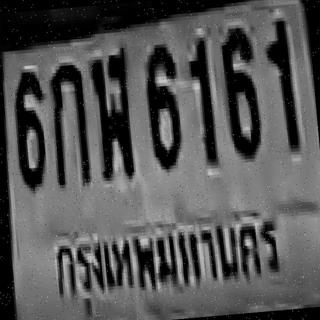A01: (45, 61, 90, 185)
A42: (87, 44, 135, 178)
N01: (261, 17, 297, 150), (184, 36, 216, 162)
N06: (218, 25, 260, 155), (140, 40, 182, 167), (9, 68, 48, 188)
P04: (52, 212, 286, 316)
